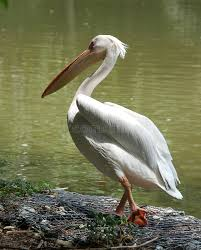Walking: (32, 24, 191, 237)
